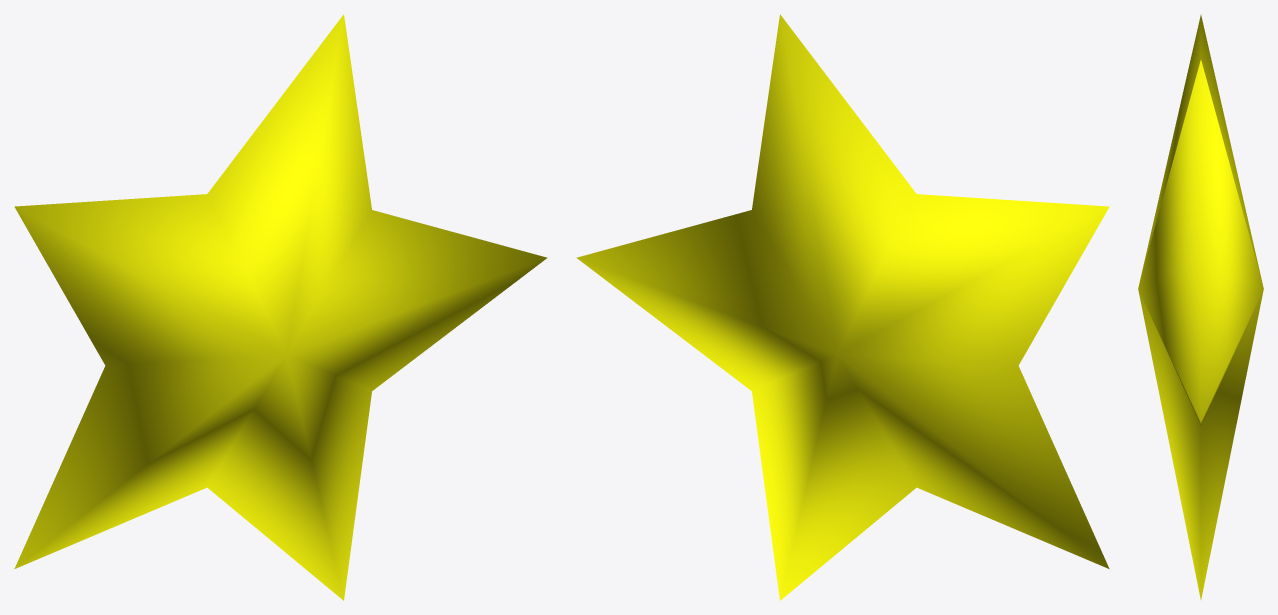
The model's file is star.obj.
The picture shows the model from 3 angles, left to right: view 1: azimuth 30°, elevation 25°; view 2: azimuth 150°, elevation 25°; view 3: azimuth 270°, elevation 25°; orthographic projection. The views are drawn at different scales.
Bounding box in the file's own units: 1.81 × 1.9 × 0.4.
Materials: 1 (1 with a texture image).
